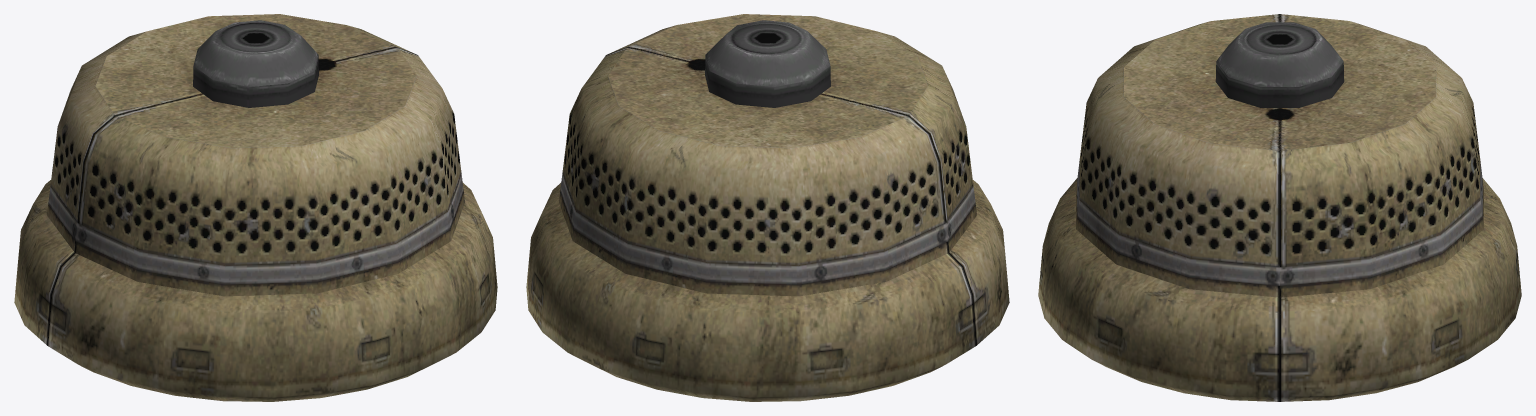
Rendered from spot_small.dae.
3 views of the same model, side by side, from view 1: azimuth 30°, elevation 25°; view 2: azimuth 150°, elevation 25°; view 3: azimuth 270°, elevation 25° (orthographic).
Visible parts, largest first — view 1: Mesh; view 2: Mesh; view 3: Mesh.
Boxes of the visible parts, bbox=[...] form: Mesh: bbox=[14, 14, 497, 401]; Mesh: bbox=[526, 14, 1009, 401]; Mesh: bbox=[1038, 14, 1521, 401].
Bounding box in the file's own units: 0.2927 × 0.181 × 0.2945.
